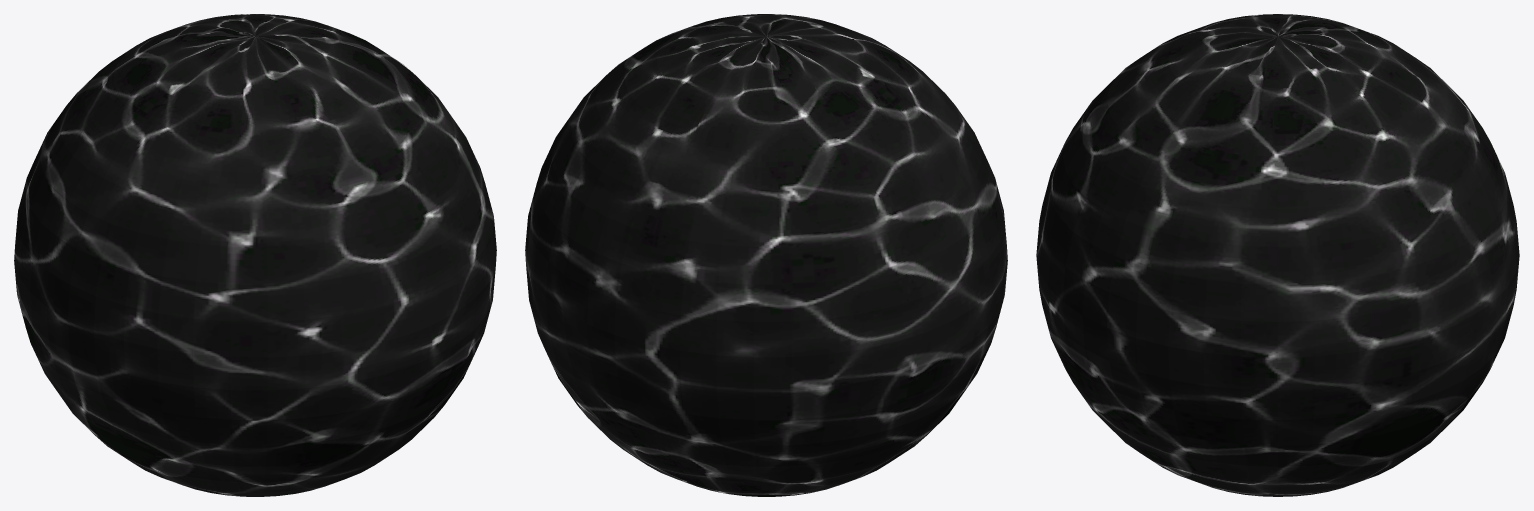
The model's file is StrikerTower_Bullet.FBX.
3 renders of one model, left to right at view 1: azimuth 30°, elevation 25°; view 2: azimuth 150°, elevation 25°; view 3: azimuth 270°, elevation 25°, orthographic.
Parts seen in each view (by area): view 1: sheild_SM; view 2: sheild_SM; view 3: sheild_SM.
Part boxes in pixels (<box>): sheild_SM: <box>14,14,496,496</box>; sheild_SM: <box>525,14,1007,496</box>; sheild_SM: <box>1036,14,1519,496</box>.
Bounding box in the file's own units: 364 × 364 × 364.
